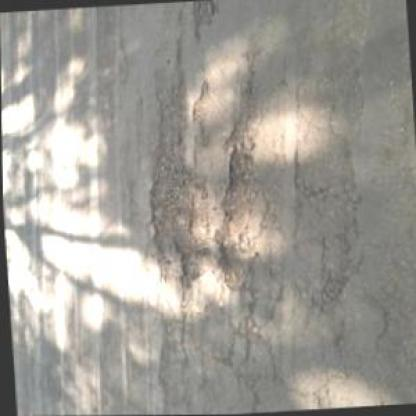pothole: (206, 118, 270, 292), (143, 133, 215, 287)
